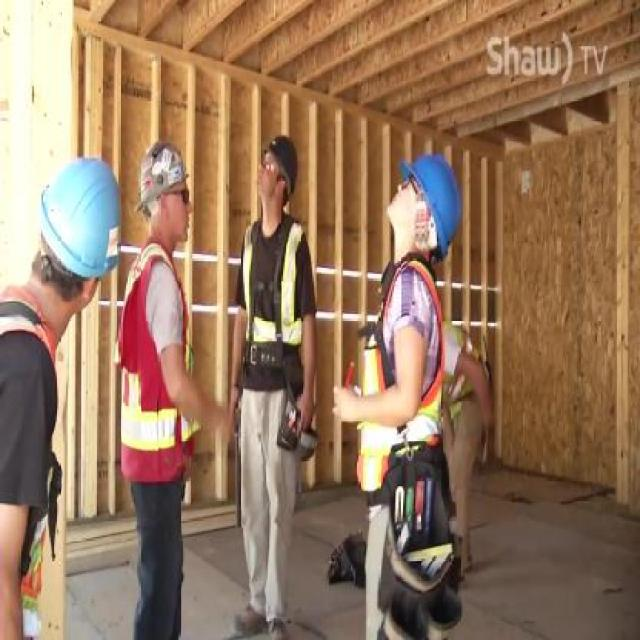Vest: (0, 273, 58, 639), (356, 254, 444, 492), (111, 242, 200, 475), (241, 216, 304, 347), (446, 316, 480, 421)
helmet: (39, 156, 122, 278), (398, 153, 462, 262), (134, 139, 188, 218), (264, 136, 299, 198)
person: (0, 156, 128, 640), (335, 154, 460, 640), (112, 134, 211, 640), (232, 130, 314, 640), (436, 314, 491, 576)
